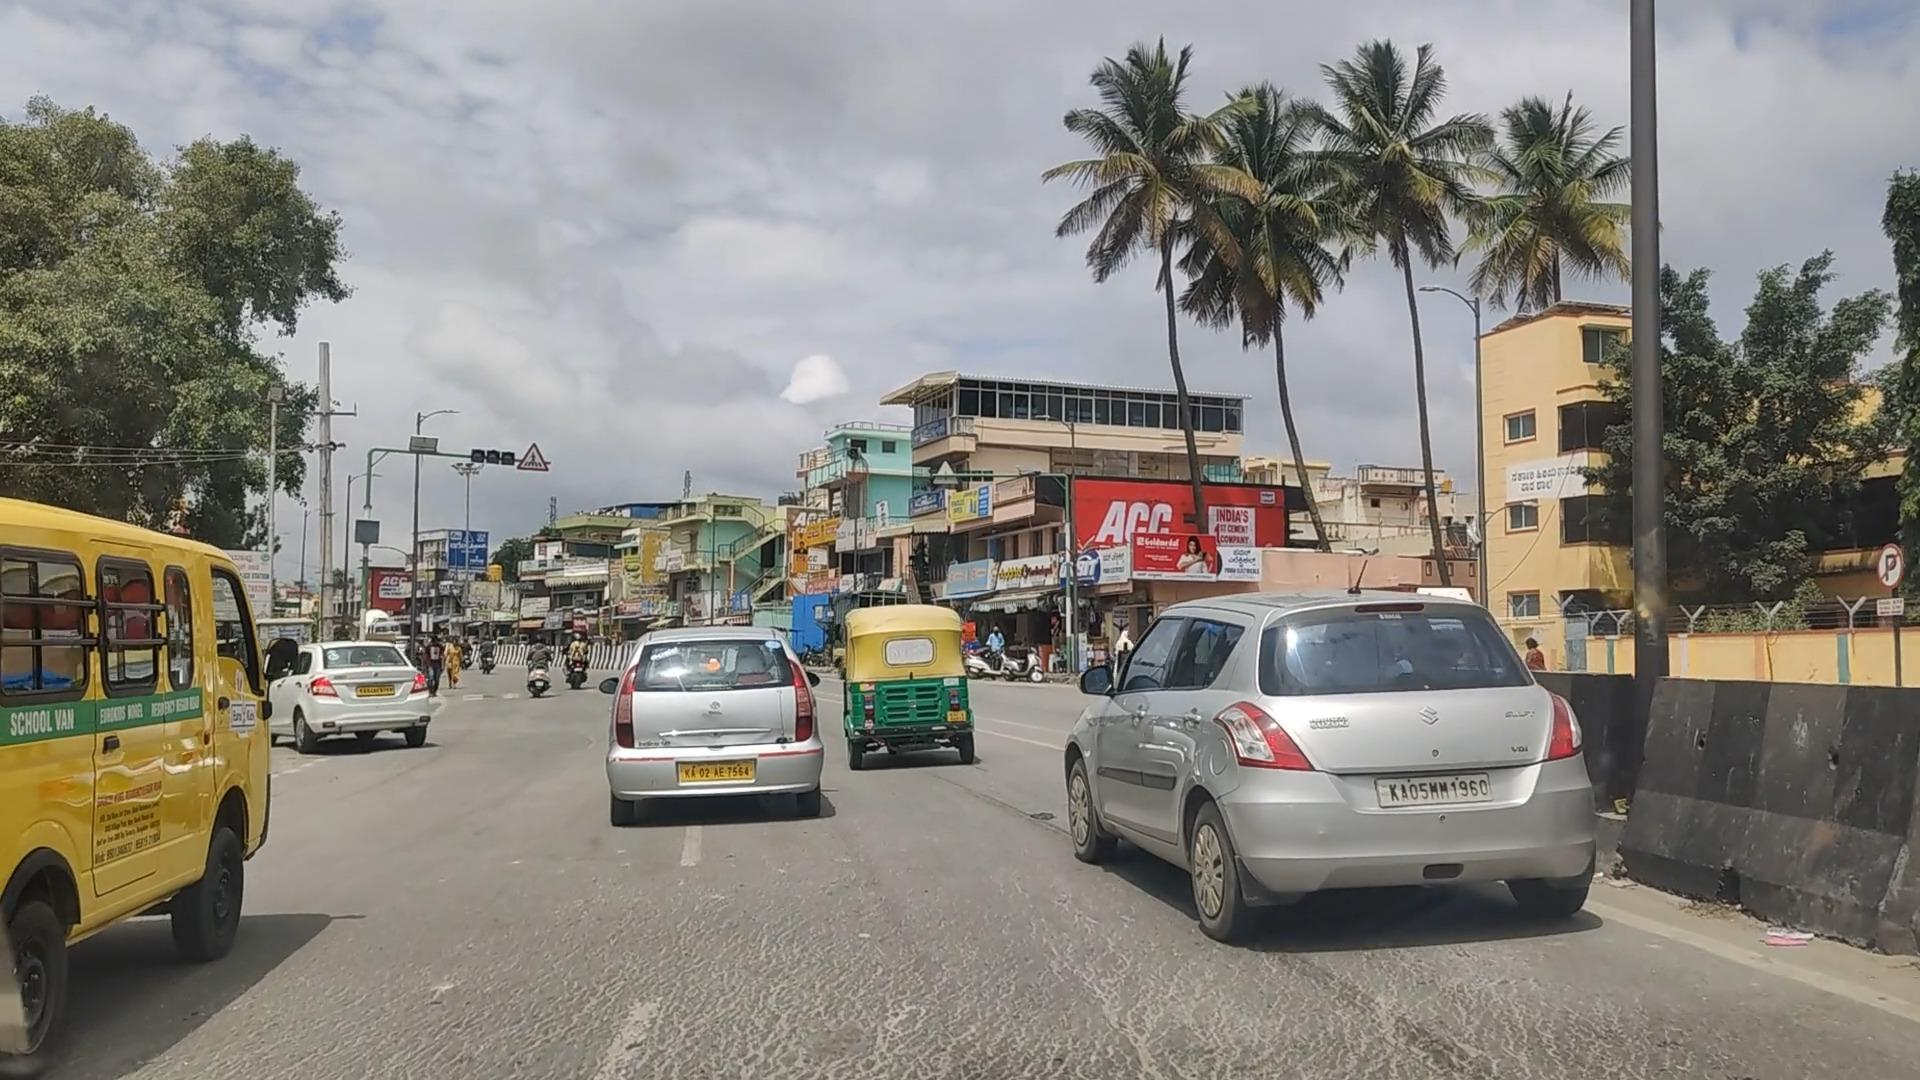LMV: (1077, 546, 1607, 1011), (0, 402, 277, 1080), (582, 605, 862, 857), (847, 585, 1015, 803), (270, 613, 440, 769)
